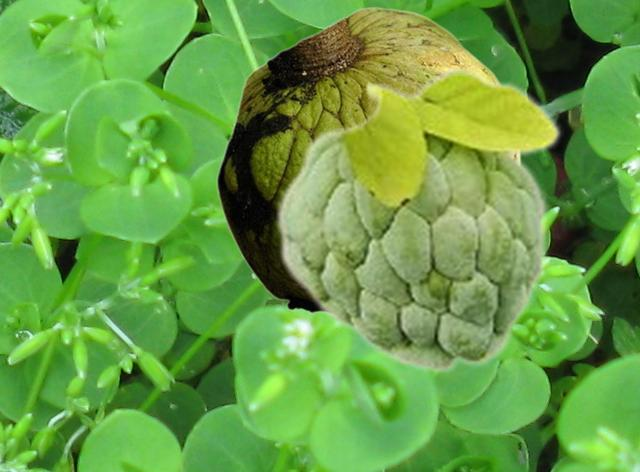atis: (273, 65, 562, 374), (215, 6, 499, 315)
